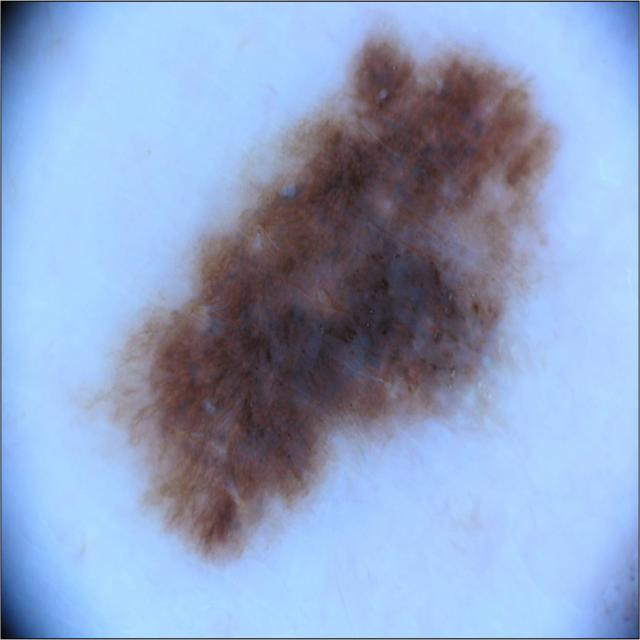Benign: (89, 22, 565, 568)
